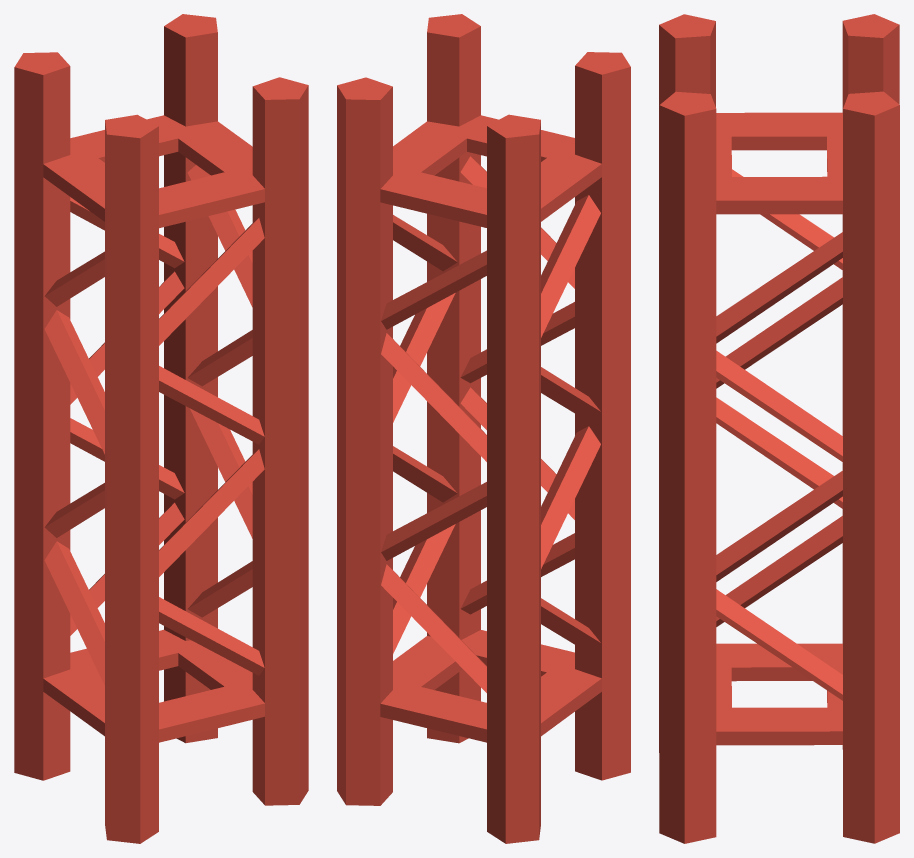
The model's file is SM_Truss_Steel_1m.fbx.
3 views of the same model, side by side, from view 1: azimuth 30°, elevation 25°; view 2: azimuth 150°, elevation 25°; view 3: azimuth 270°, elevation 25° (orthographic). The views are drawn at different scales.
Parts seen in each view (by area): view 1: SM_Truss_Steel_1m; view 2: SM_Truss_Steel_1m; view 3: SM_Truss_Steel_1m.
Part boxes in pixels (x1=…): SM_Truss_Steel_1m: x1=14, y1=14, x2=308, y2=843; SM_Truss_Steel_1m: x1=337, y1=14, x2=630, y2=843; SM_Truss_Steel_1m: x1=659, y1=14, x2=899, y2=843.
Size of the model in its own units: 29.98 by 29.98 by 100.
